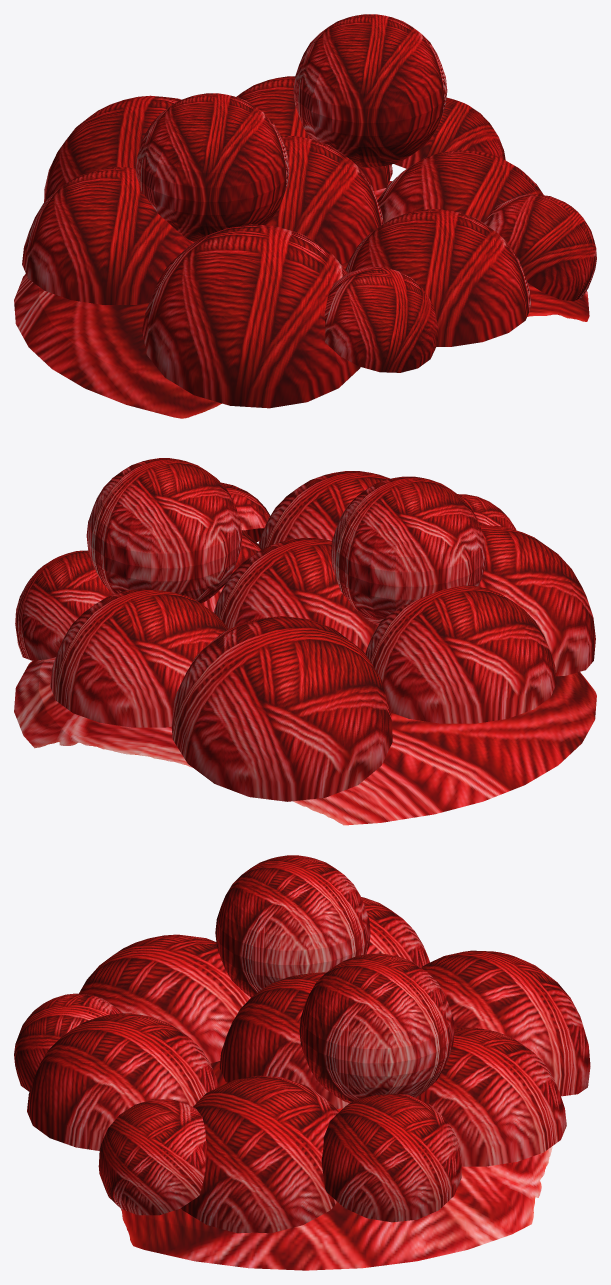
Rendered from yarn topper.fbx.
3 views of the same model, one above another, from view 1: azimuth 30°, elevation 25°; view 2: azimuth 150°, elevation 25°; view 3: azimuth 270°, elevation 25° (orthographic).
Visible parts, largest first — view 1: Yarn.001; view 2: Yarn.001; view 3: Yarn.001.
Part boxes in pixels (box(x1,y1,x2,y2)): Yarn.001: box(14, 14, 596, 418); Yarn.001: box(14, 458, 596, 825); Yarn.001: box(14, 855, 590, 1270).
Size of the model in its own units: 450 by 203 by 450.
2 materials, 2 textured.
